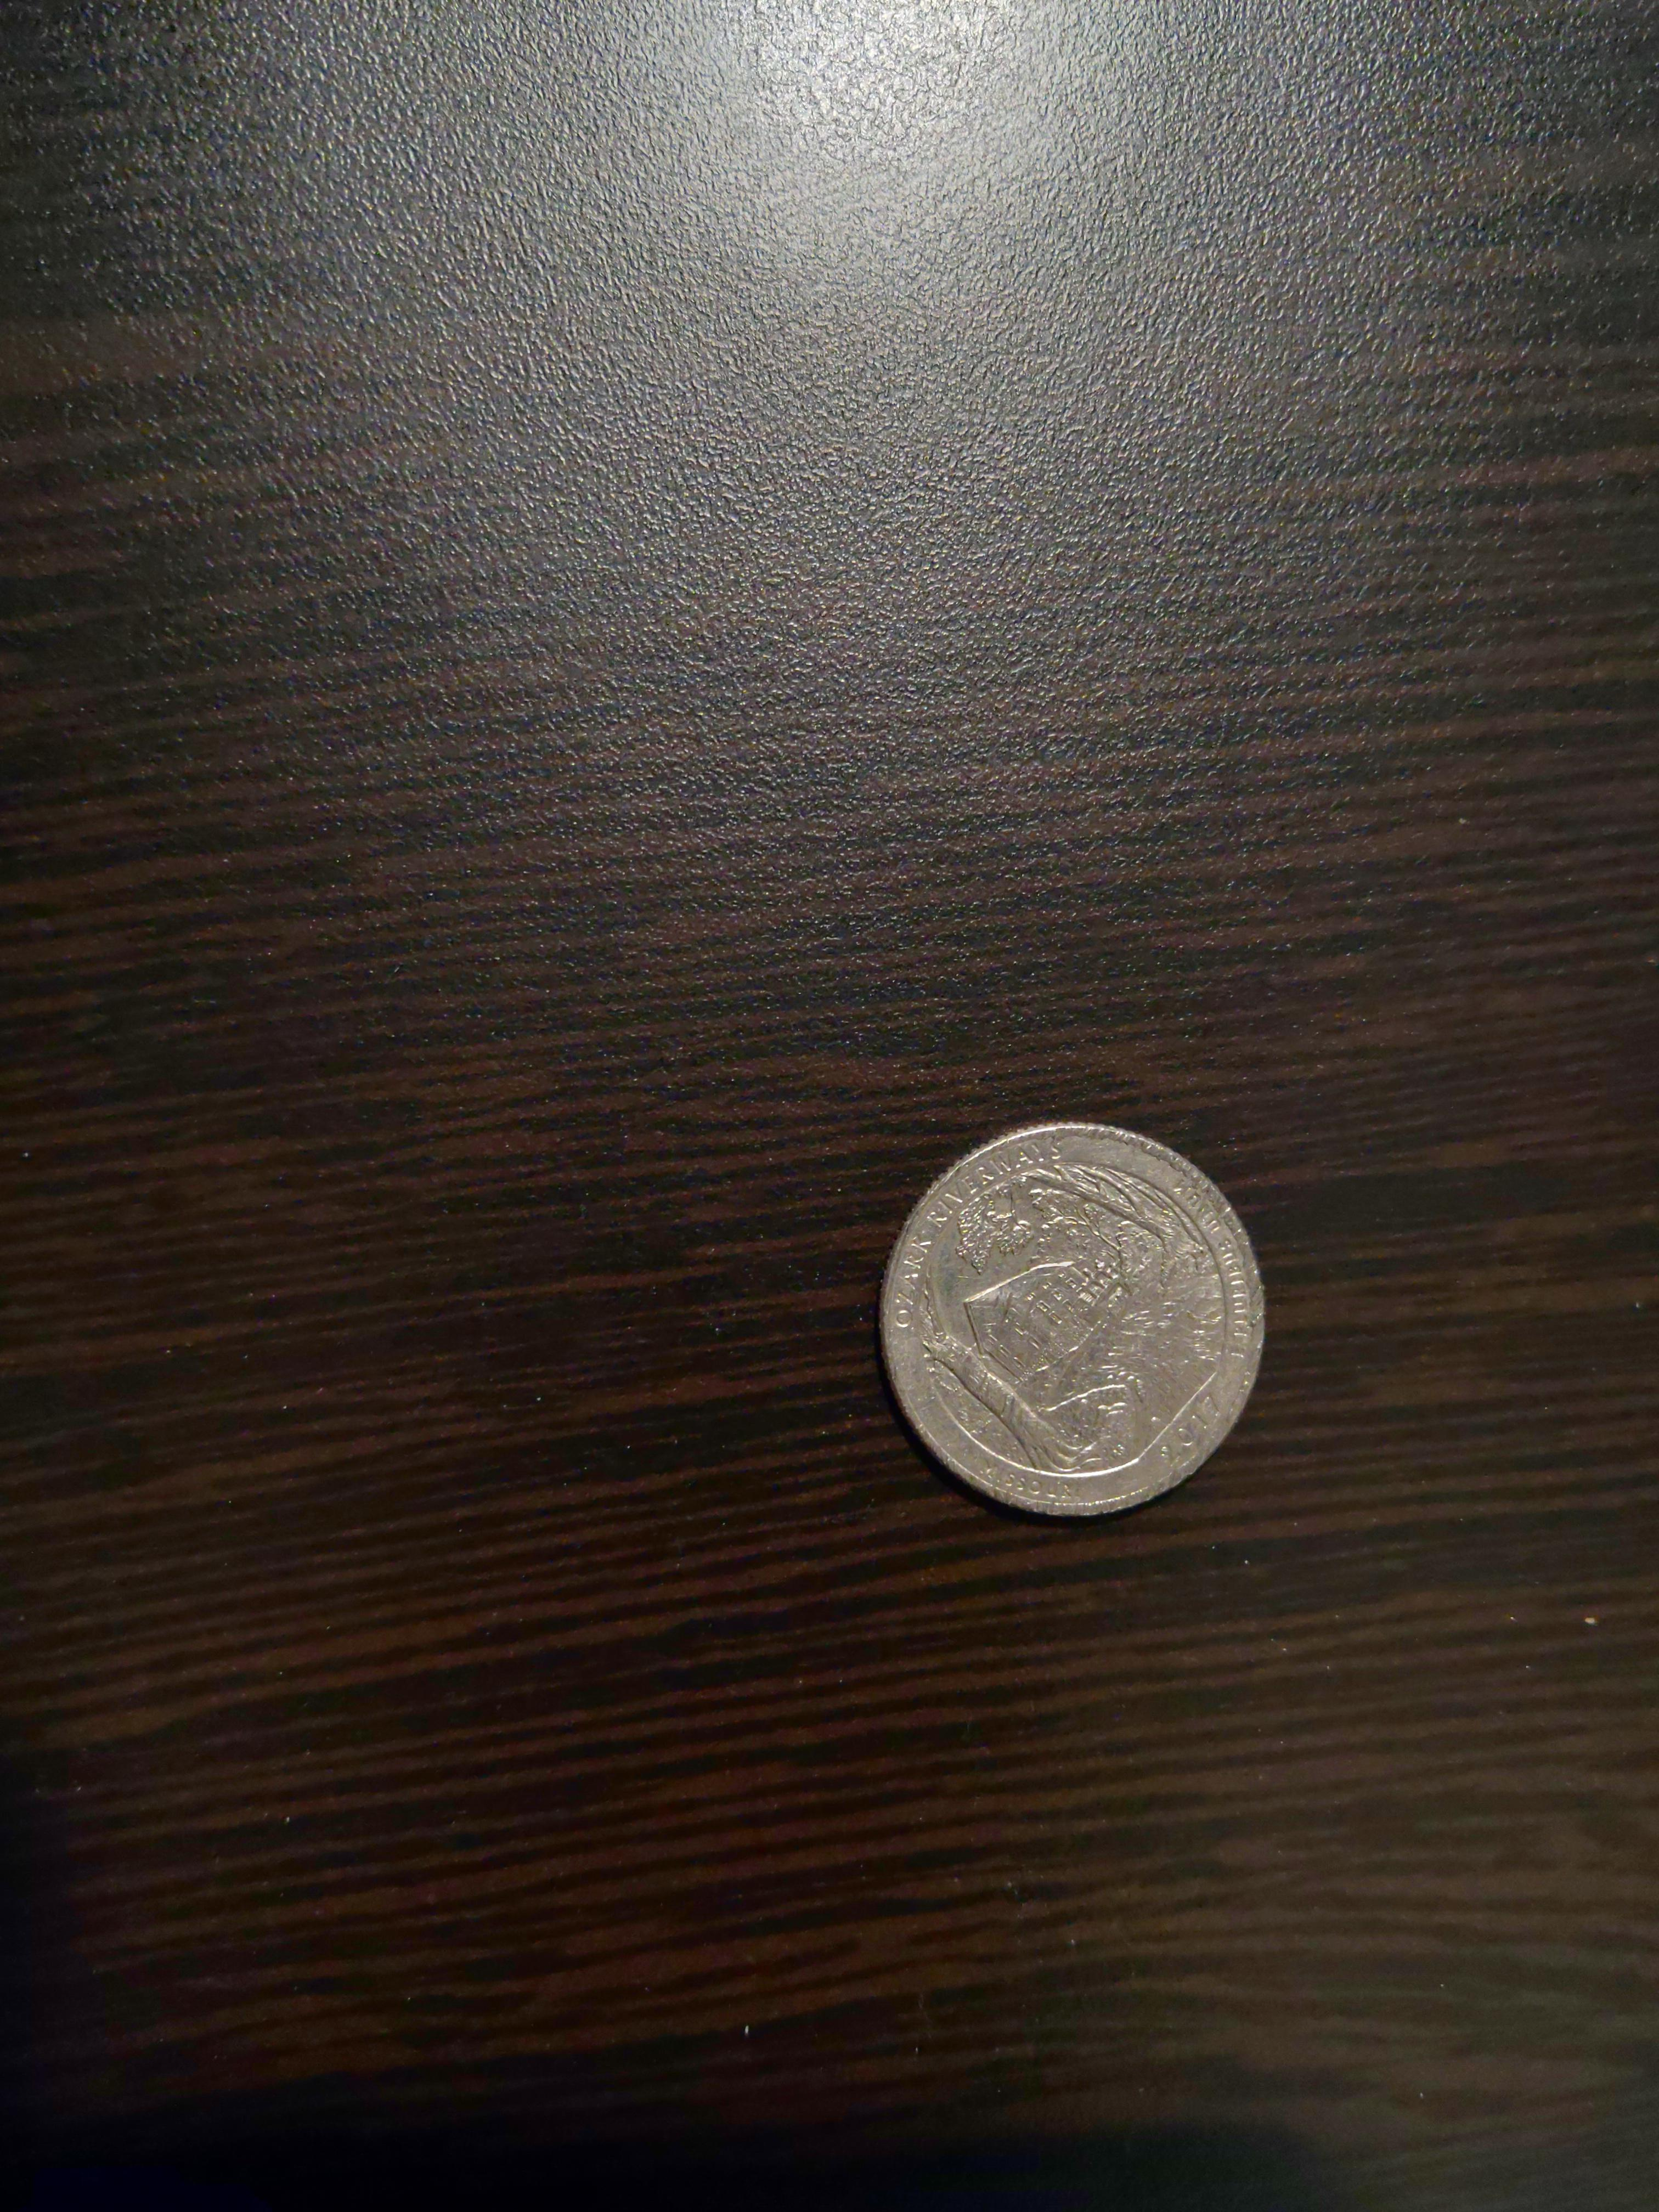Quarter: (878, 1116, 1272, 1526)
